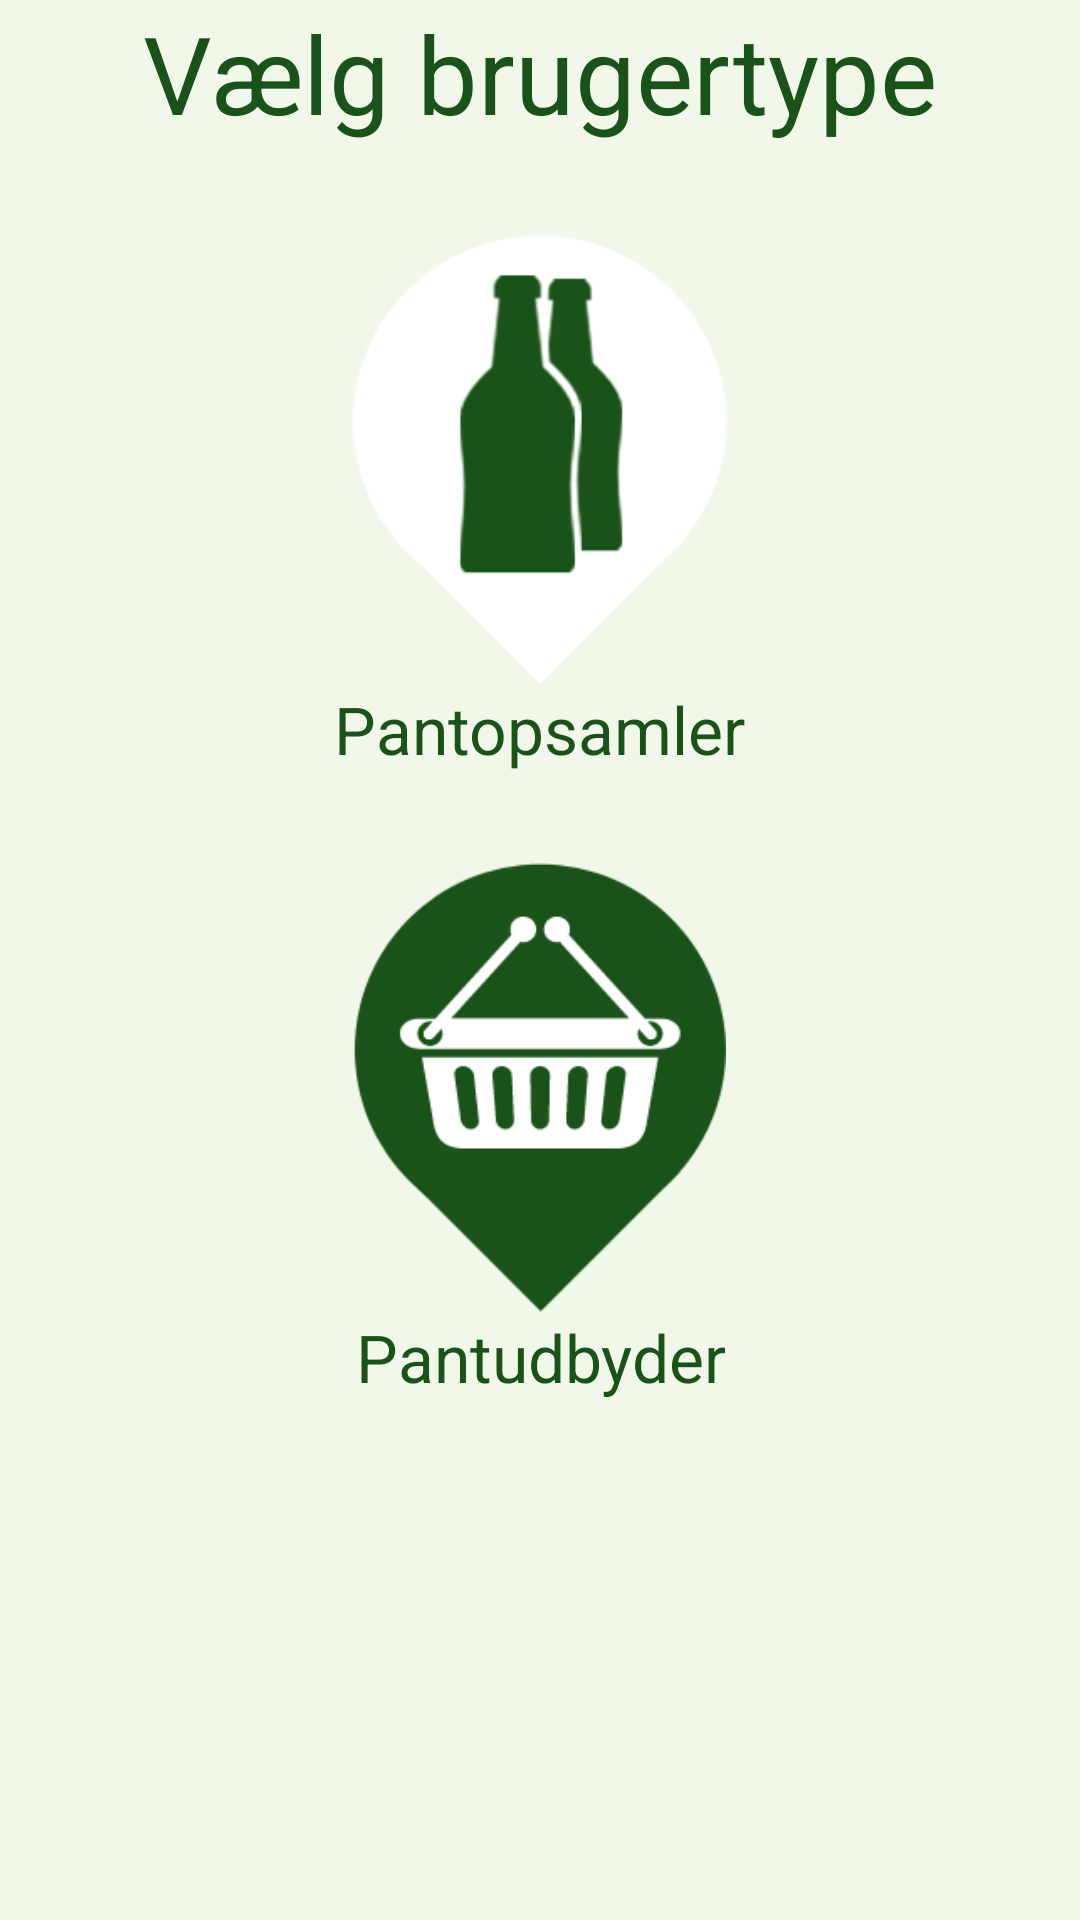

Screen size 1080px×1920px. Icon name, then its center in pixels as [x,y]:
collector: [541,424]
